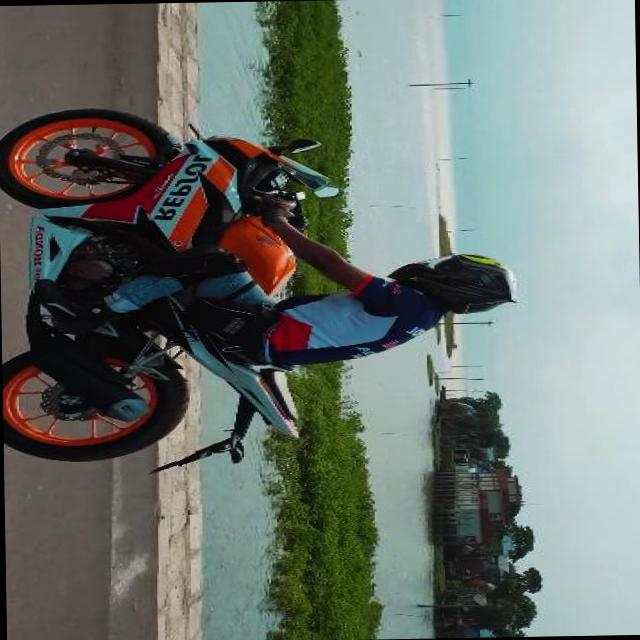motorcycle: (0, 100, 520, 478)
